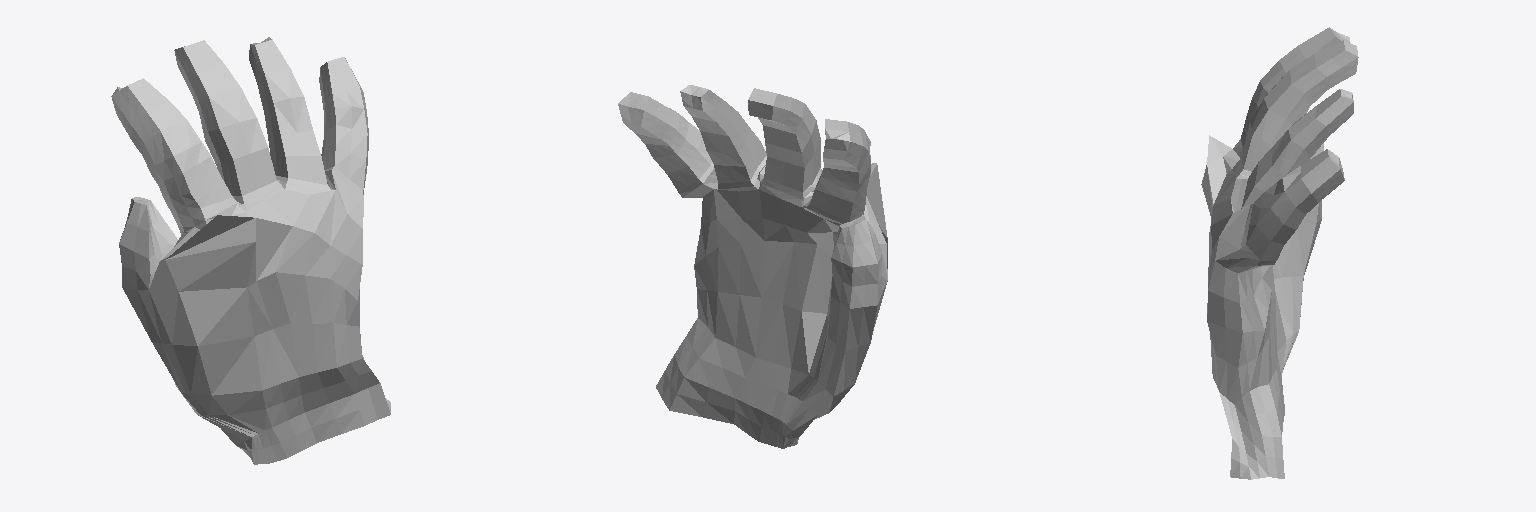
The model's file is grip0021.obj.
The picture shows the model from 3 angles: view 1: azimuth 30°, elevation 25°; view 2: azimuth 150°, elevation 25°; view 3: azimuth 270°, elevation 25°; orthographic projection.
Visible parts, largest first — view 1: Hand; view 2: Hand; view 3: Hand.
Boxes of the visible parts, x1,y1,x2,y2 form: Hand: [111, 37, 390, 464]; Hand: [618, 85, 887, 448]; Hand: [1201, 27, 1358, 479].
Size of the model in its own units: 2.96 by 4.51 by 1.64.